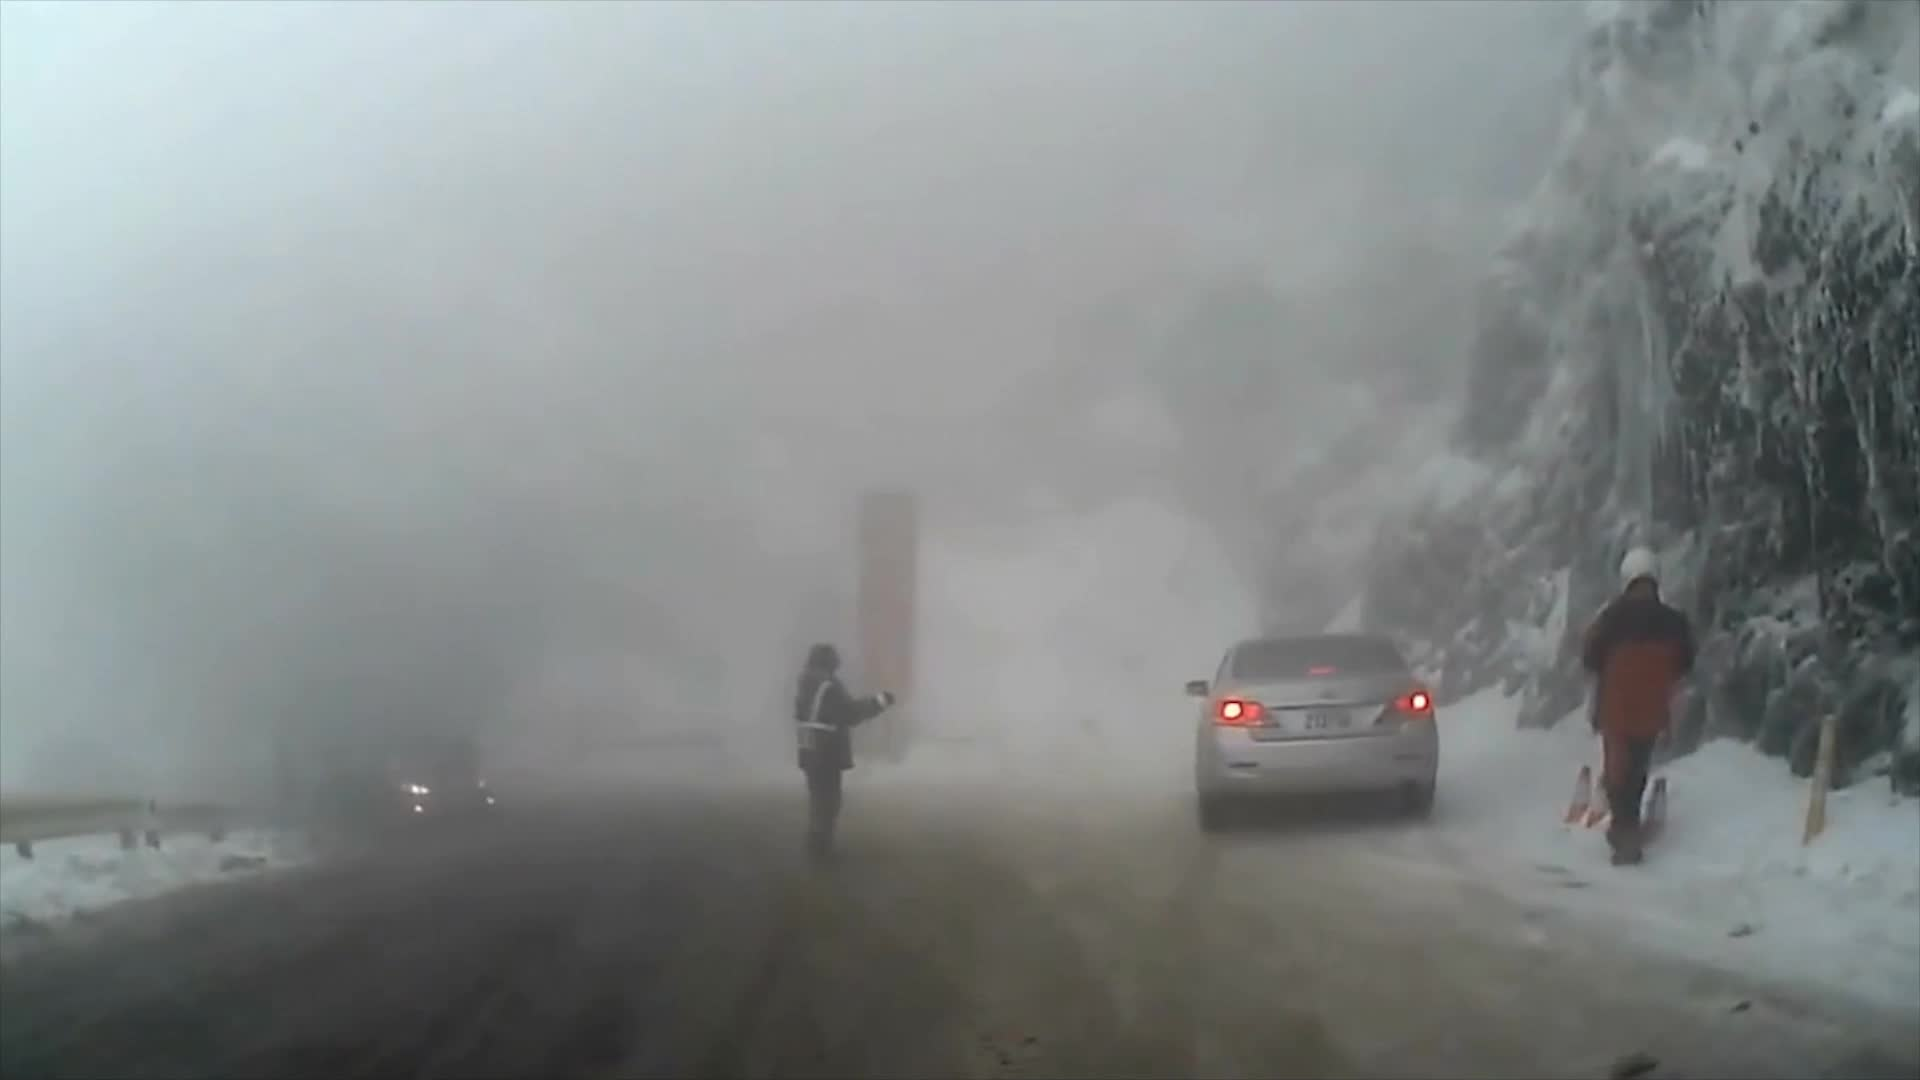pedestrian: (1581, 543, 1694, 865), (792, 646, 896, 864)
vehicle: (1184, 630, 1440, 835)
